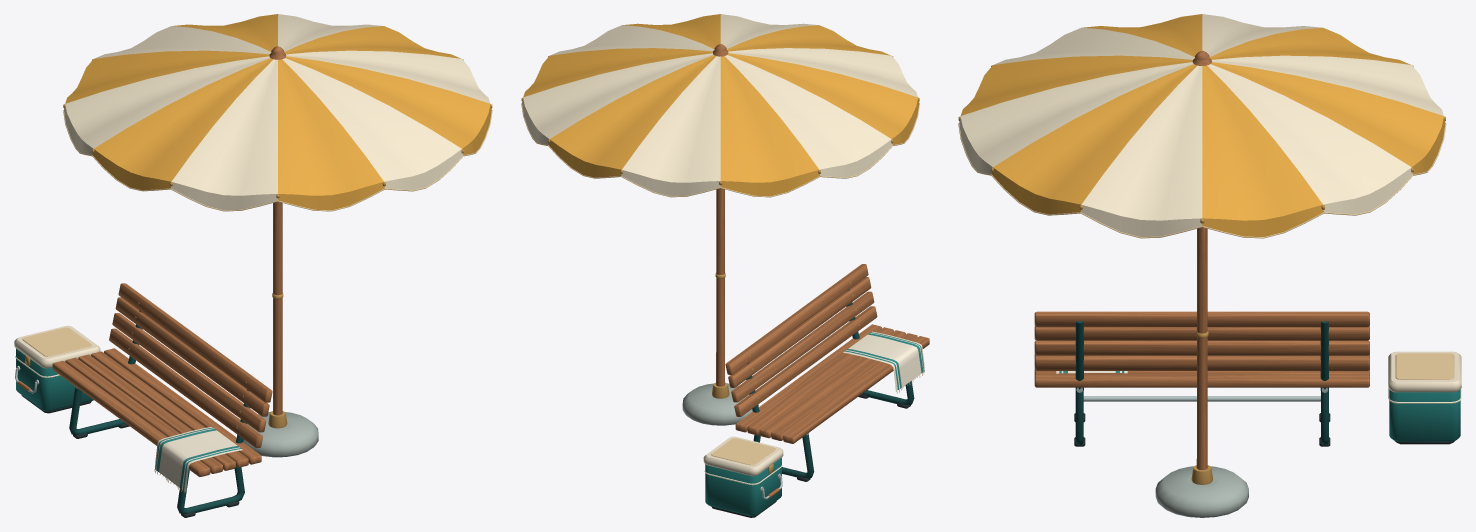
The model's file is bench_umbrella.glb.
3 views of the same model, side by side, from view 1: azimuth 30°, elevation 25°; view 2: azimuth 150°, elevation 25°; view 3: azimuth 270°, elevation 25° (orthographic). The views are drawn at different scales.
Parts seen in each view (by area): view 1: bench_umbrella_Mat_CanopyB, bench_umbrella_Mat_CanopyA, bench_umbrella_Teak, Bench_Seat, bench_umbrella_Towel, bench_umbrella_Piping, bench_umbrella_Sea_Enamel, bench_umbrella_Concrete, bench_umbrella_Deep_Jade, bench_umbrella_Porcelain, bench_umbrella_Towel_Stripe; view 2: bench_umbrella_Mat_CanopyA, bench_umbrella_Mat_CanopyB, bench_umbrella_Teak, Bench_Seat, bench_umbrella_Sea_Enamel, bench_umbrella_Towel, bench_umbrella_Piping, bench_umbrella_Concrete, bench_umbrella_Porcelain, bench_umbrella_Deep_Jade, bench_umbrella_Towel_Stripe; view 3: bench_umbrella_Mat_CanopyB, bench_umbrella_Mat_CanopyA, bench_umbrella_Teak, Bench_Seat, bench_umbrella_Concrete, bench_umbrella_Sea_Enamel, bench_umbrella_Piping, bench_umbrella_Deep_Jade, bench_umbrella_Porcelain, bench_umbrella_Silver.
Part boxes in pixels (<box>): bench_umbrella_Mat_CanopyB: <box>64,14,490,210</box>; bench_umbrella_Mat_CanopyA: <box>65,14,491,210</box>; bench_umbrella_Teak: <box>18,46,286,447</box>; Bench_Seat: <box>52,348,261,476</box>; bench_umbrella_Towel: <box>155,427,242,491</box>; bench_umbrella_Piping: <box>22,110,492,492</box>; bench_umbrella_Sea_Enamel: <box>16,348,93,411</box>; bench_umbrella_Concrete: <box>237,412,318,457</box>; bench_umbrella_Deep_Jade: <box>69,310,250,514</box>; bench_umbrella_Porcelain: <box>14,325,100,377</box>; bench_umbrella_Towel_Stripe: <box>155,427,241,490</box>; bench_umbrella_Mat_CanopyA: <box>523,14,919,196</box>; bench_umbrella_Mat_CanopyB: <box>522,14,917,196</box>; bench_umbrella_Teak: <box>713,44,877,498</box>; Bench_Seat: <box>735,324,929,443</box>; bench_umbrella_Sea_Enamel: <box>705,458,781,516</box>; bench_umbrella_Towel: <box>843,331,924,390</box>; bench_umbrella_Piping: <box>521,103,924,465</box>; bench_umbrella_Concrete: <box>682,383,758,425</box>; bench_umbrella_Porcelain: <box>703,436,783,485</box>; bench_umbrella_Deep_Jade: <box>746,289,914,478</box>; bench_umbrella_Towel_Stripe: <box>844,332,924,389</box>; bench_umbrella_Mat_CanopyB: <box>959,14,1443,236</box>; bench_umbrella_Mat_CanopyA: <box>960,14,1445,236</box>; bench_umbrella_Teak: <box>1034,50,1369,470</box>; Bench_Seat: <box>1034,354,1369,387</box>; bench_umbrella_Concrete: <box>1155,466,1248,517</box>; bench_umbrella_Sea_Enamel: <box>1389,389,1460,441</box>; bench_umbrella_Piping: <box>958,123,1454,379</box>; bench_umbrella_Deep_Jade: <box>1075,321,1328,445</box>; bench_umbrella_Porcelain: <box>1388,351,1461,403</box>; bench_umbrella_Silver: <box>1076,387,1328,401</box>.
Bounding box in the file's own units: 2.93 × 2.96 × 3.02.
14 materials, 2 textured.
